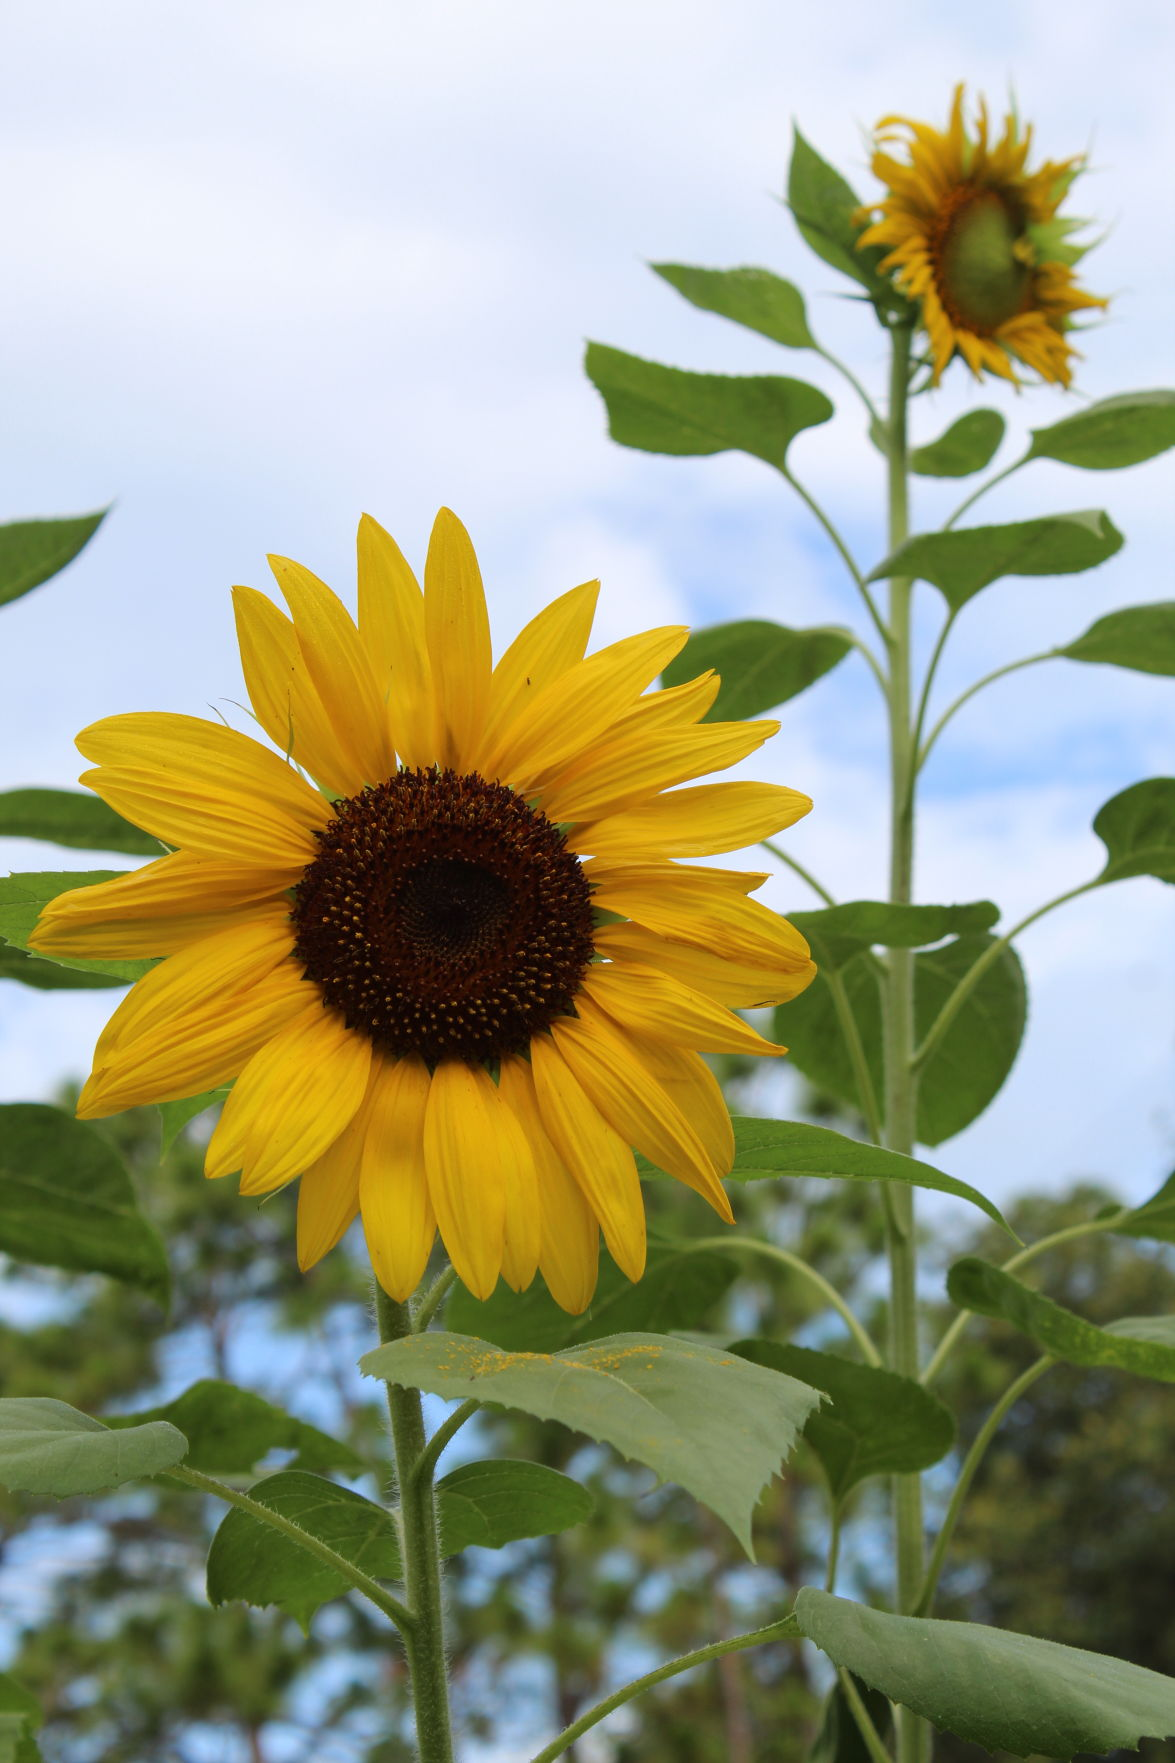Sunflower: (46, 526, 776, 1288)
